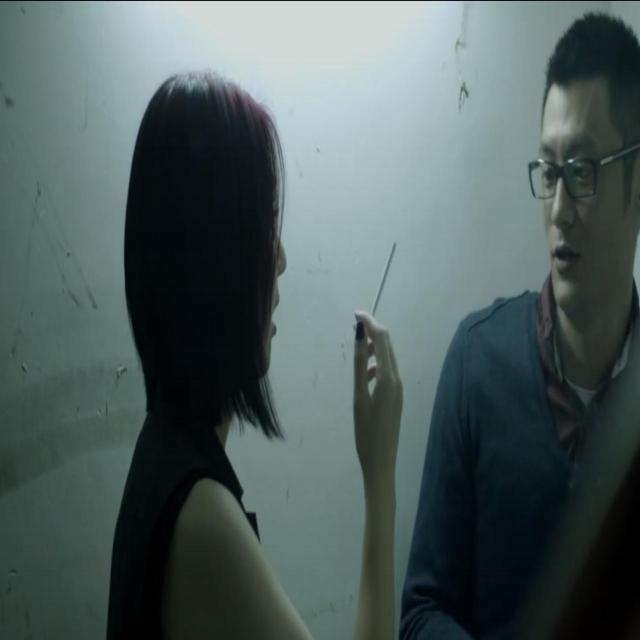cigarette: (367, 236, 397, 308)
